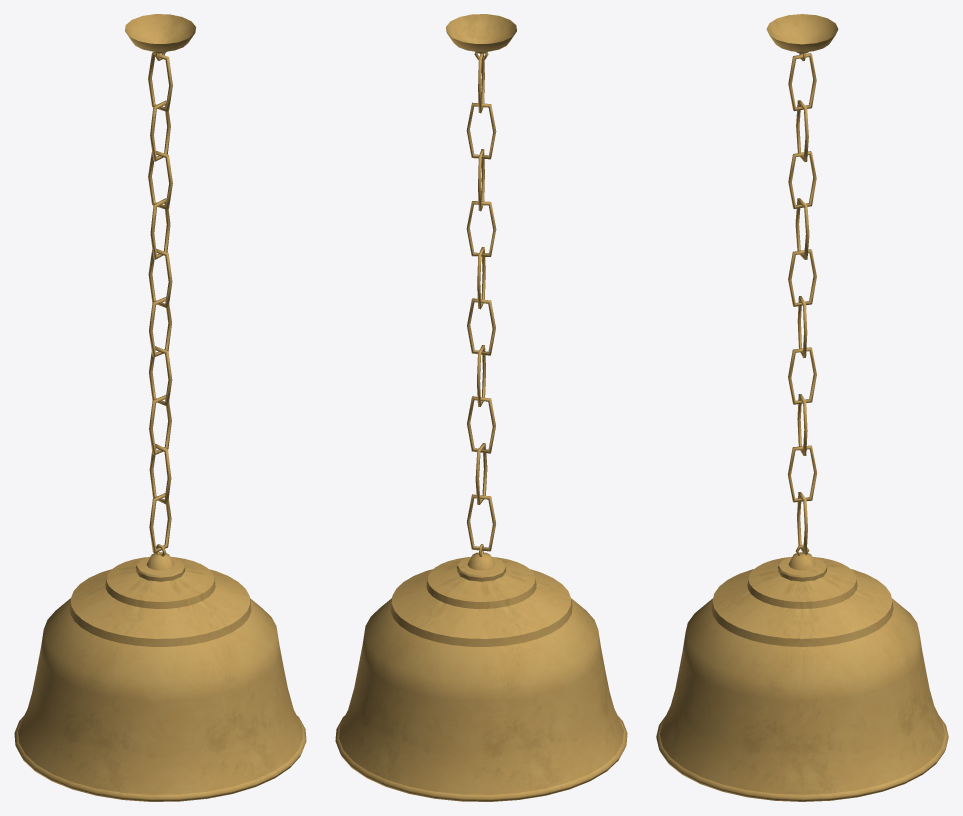
Rendered from Lamp.glb.
3 renders of one model, left to right at view 1: azimuth 30°, elevation 25°; view 2: azimuth 150°, elevation 25°; view 3: azimuth 270°, elevation 25°, orthographic.
Parts seen in each view (by area): view 1: Lamp_Brass, Lamp_Canopy; view 2: Lamp_Brass, Lamp_Canopy; view 3: Lamp_Brass, Lamp_Canopy.
Boxes of the visible parts, x1=… form: Lamp_Brass: x1=14, y1=52, x2=306, y2=801; Lamp_Canopy: x1=125, y1=14, x2=195, y2=53; Lamp_Brass: x1=335, y1=52, x2=627, y2=801; Lamp_Canopy: x1=446, y1=14, x2=516, y2=53; Lamp_Brass: x1=656, y1=53, x2=948, y2=801; Lamp_Canopy: x1=766, y1=14, x2=838, y2=53.
Size of the model in its own units: 0.488 by 1.31 by 0.488.
Materials: 4 (2 with a texture image).
